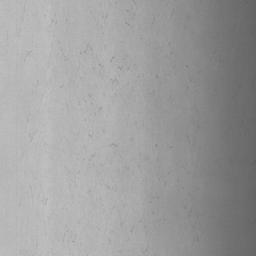Silk spot: (110, 55, 136, 84), (79, 94, 102, 116)
